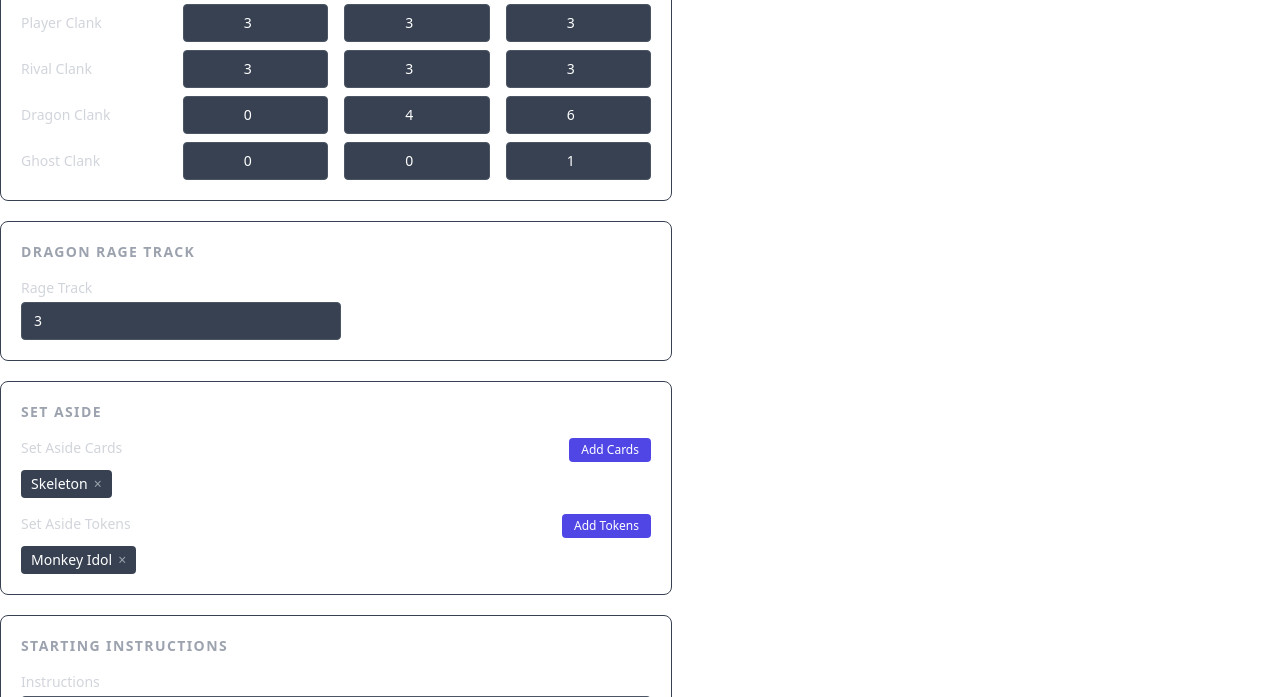
it: SetupTab › opening the modal pre-checks cards already in Set Aside Cards
(page scrolled)
Click the button "Add Cards". click: (610, 450)
box: [569,438,651,462]
(page scrolled)
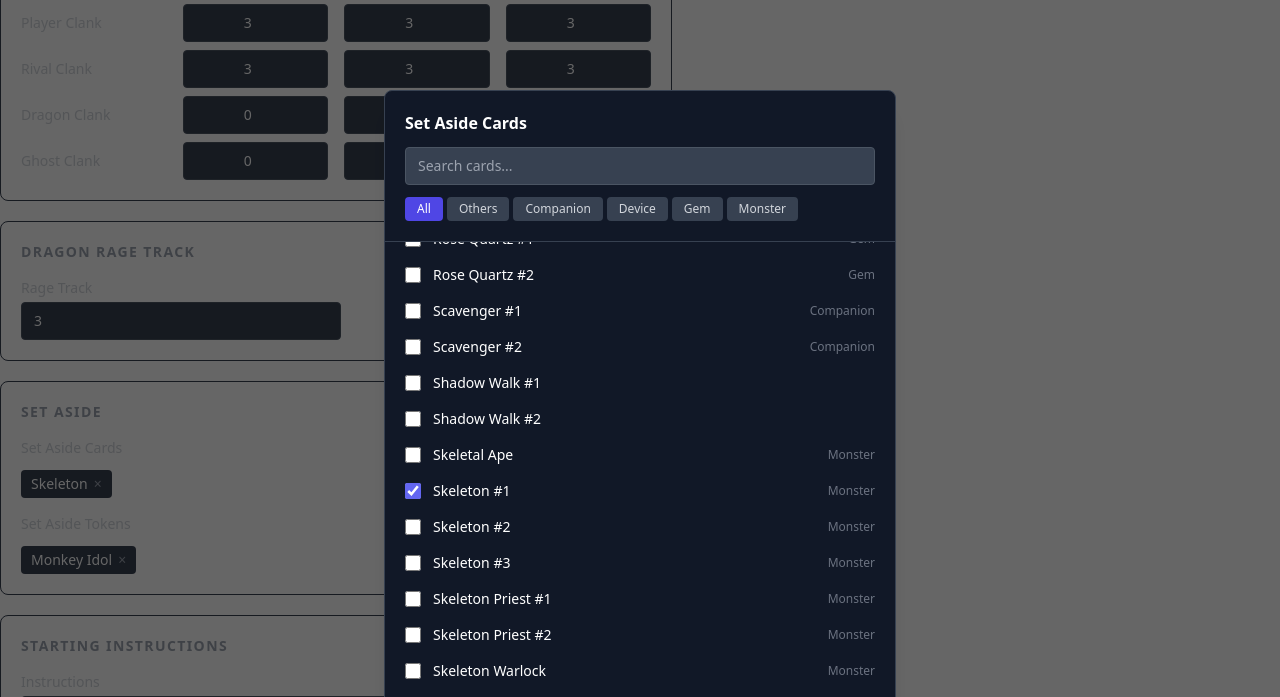
Now the checkbox labelled "Skeleton #1 Monster" is checked, box [405,483,421,499]
